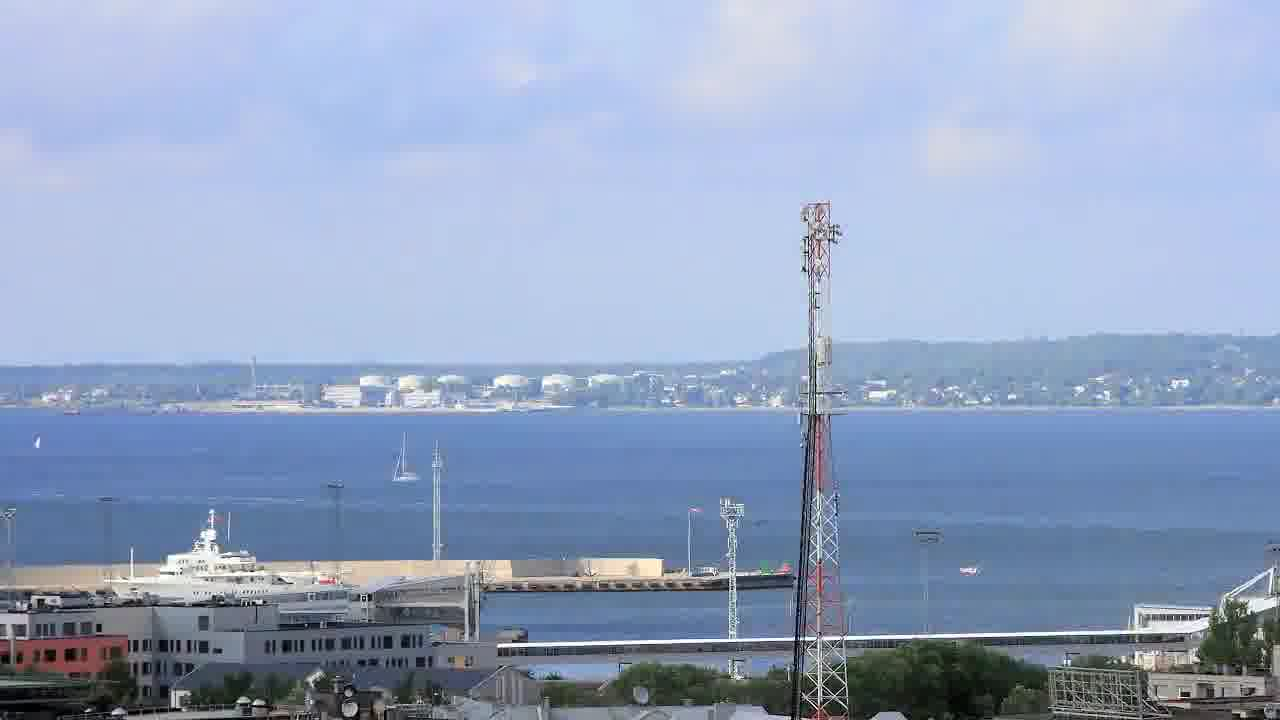type-2: (376, 427, 432, 490)
type-3: (96, 508, 381, 605)
type-4: (948, 550, 996, 586)
